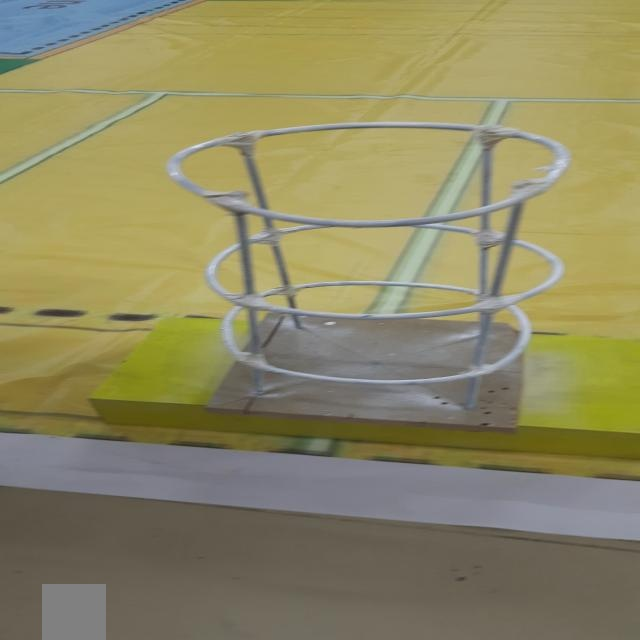silo: (134, 105, 602, 440)
